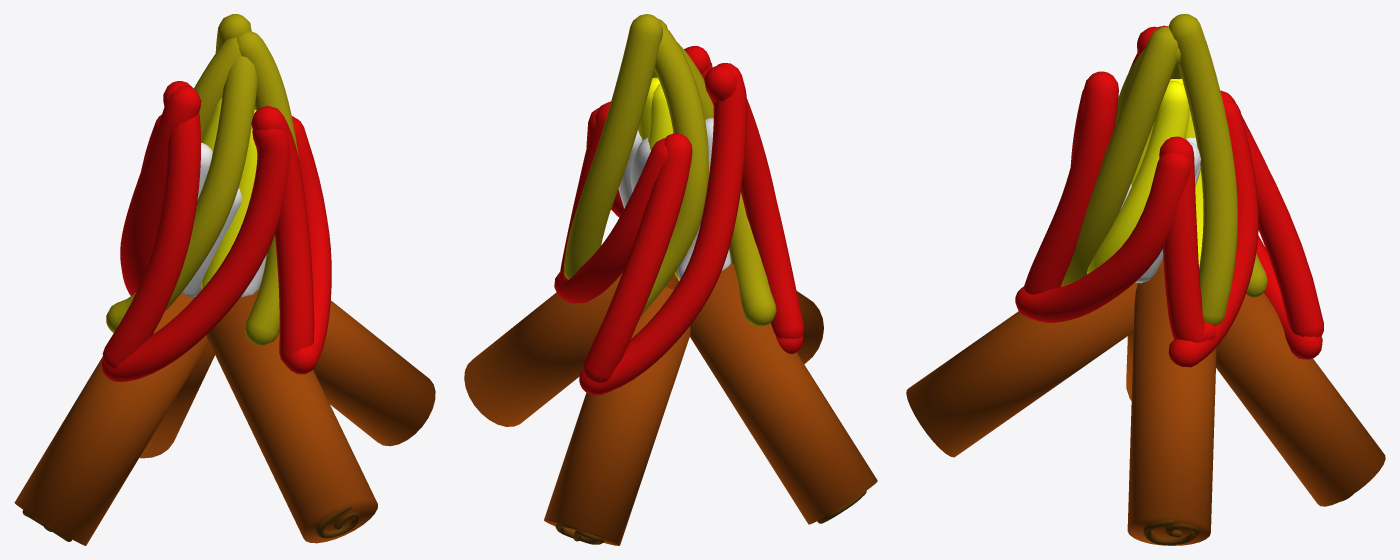
The model's file is fire_fbx.fbx.
3 renders of one model, left to right at view 1: azimuth 30°, elevation 25°; view 2: azimuth 150°, elevation 25°; view 3: azimuth 270°, elevation 25°, orthographic. The views are drawn at different scales.
Parts seen in each view (by area): view 1: p.0010, p.0009, s.0024, p.0011, s.0046, s.0029, s.0042, s.0023, s.0025, s.0037, p.0012, s.0031 (+4 smaller); view 2: p.0009, p.0012, p.0011, s.0023, s.0056, s.0044, s.0046, s.0031, s.0026, s.0029, p.0010, s.0043 (+5 smaller); view 3: p.0011, p.0012, p.0010, s.0056, s.0037, s.0025, s.0042, s.0044, s.0043, s.0026, s.0034, s.0023 (+3 smaller).
Boxes of the visible parts, box(x1,y1,x2,y2) form: p.0010: box(206, 290, 377, 543); p.0009: box(14, 293, 208, 545); s.0024: box(102, 128, 290, 381); p.0011: box(313, 300, 435, 446); s.0046: box(102, 81, 200, 368); s.0029: box(106, 56, 257, 332); s.0042: box(251, 106, 314, 364); s.0023: box(120, 85, 201, 295); s.0025: box(286, 116, 331, 374); s.0037: box(236, 30, 298, 345); p.0012: box(139, 289, 214, 458); s.0031: box(194, 37, 241, 142); p.0009: box(690, 262, 877, 524); p.0012: box(544, 287, 690, 545); p.0011: box(464, 273, 677, 426); s.0023: box(579, 63, 747, 395); s.0056: box(564, 14, 662, 279); s.0044: box(583, 133, 692, 382); s.0046: box(704, 65, 803, 339); s.0031: box(641, 26, 708, 315); s.0026: box(554, 138, 667, 303); s.0029: box(677, 42, 776, 326); p.0010: box(676, 276, 823, 364); s.0043: box(559, 101, 610, 285); p.0011: box(1127, 267, 1216, 545); p.0012: box(1216, 292, 1385, 506); p.0010: box(906, 282, 1137, 457); s.0056: box(1168, 14, 1237, 325); s.0037: box(1061, 26, 1178, 284); s.0025: box(1015, 152, 1190, 322); s.0042: box(1023, 71, 1118, 294); s.0044: box(1220, 90, 1323, 337); s.0043: box(1159, 136, 1215, 342); s.0026: box(1168, 100, 1258, 367); s.0034: box(1087, 81, 1189, 274); s.0023: box(1137, 26, 1322, 359).
Bounding box in the file's own units: 56.87 × 56.98 × 64.75.
